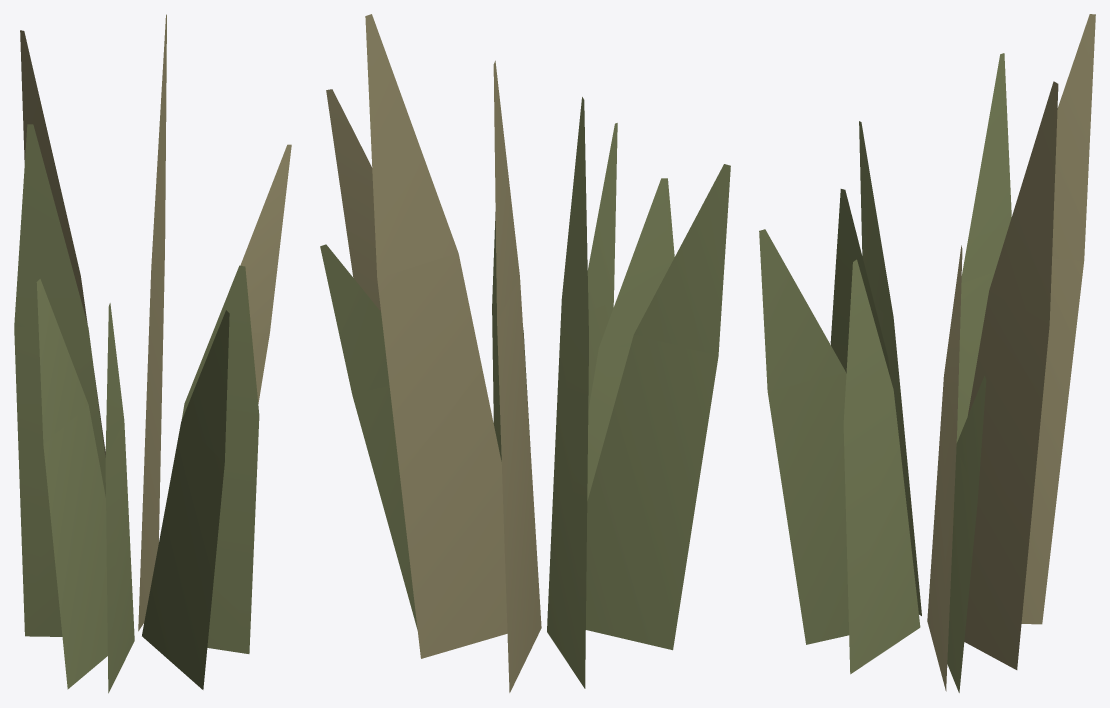
The model's file is grass_tuft.glb.
3 views of the same model, side by side, from view 1: azimuth 30°, elevation 25°; view 2: azimuth 150°, elevation 25°; view 3: azimuth 270°, elevation 25° (orthographic). The views are drawn at different scales.
Parts seen in each view (by area): view 1: grass_tuft; view 2: grass_tuft; view 3: grass_tuft.
Boxes of the visible parts, bbox=[...] form: grass_tuft: bbox=[14, 14, 291, 693]; grass_tuft: bbox=[320, 14, 730, 692]; grass_tuft: bbox=[759, 14, 1095, 692].
Bounding box in the file's own units: 0.2302 × 0.4193 × 0.2084.
